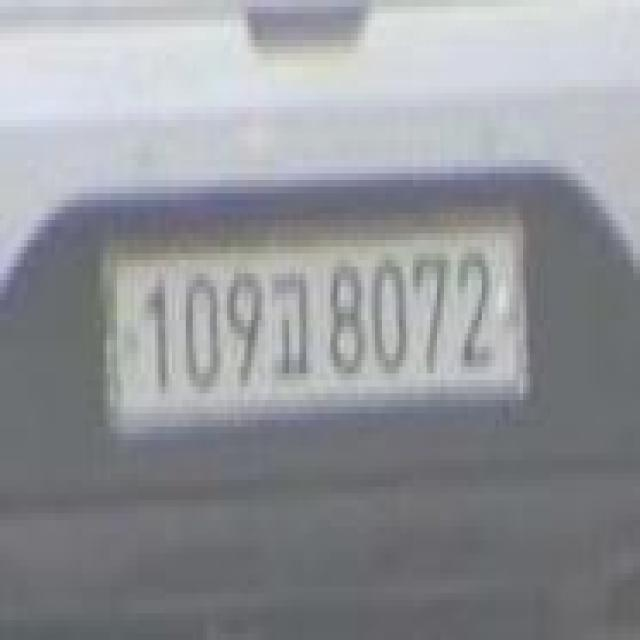illegal_plate: (101, 213, 533, 439)
